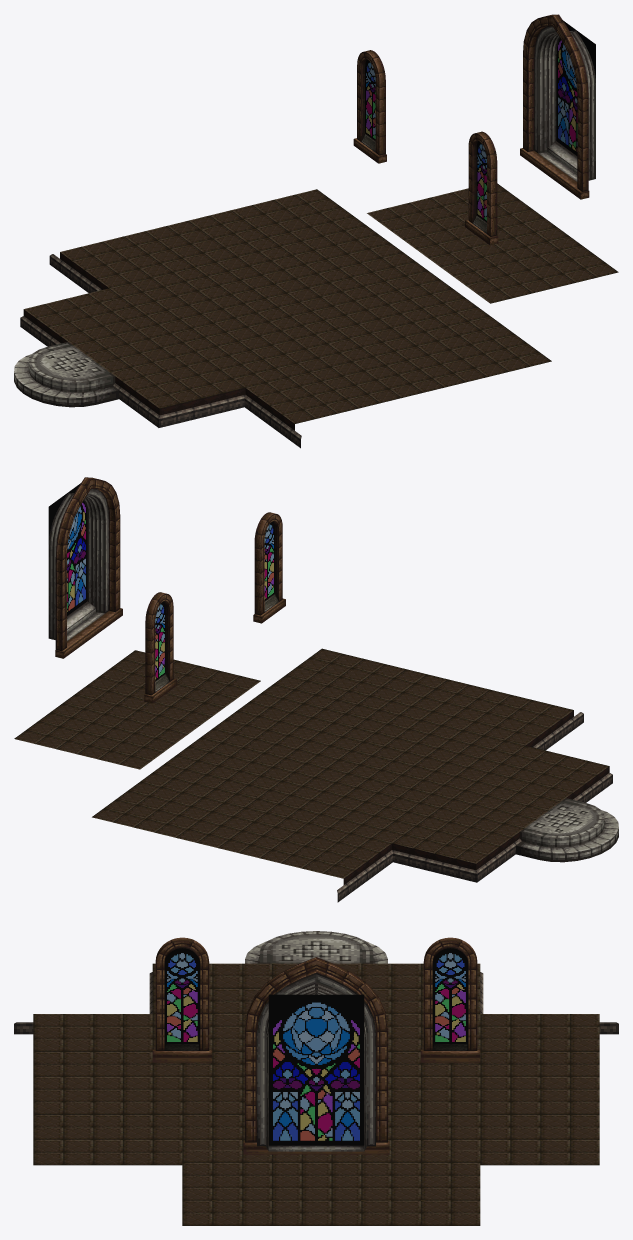
File: EnvBdgMD_Church_Mount_A_Indoor_Floor.FBX
3 views of the same model, one above another, from view 1: azimuth 30°, elevation 25°; view 2: azimuth 150°, elevation 25°; view 3: azimuth 270°, elevation 25° (orthographic). The views are drawn at different scales.
Parts seen in each view (by area): view 1: EnvBdgMD_Church_Mount_A_Indoor_Floor; view 2: EnvBdgMD_Church_Mount_A_Indoor_Floor; view 3: EnvBdgMD_Church_Mount_A_Indoor_Floor.
Part boxes in pixels (left/top/right/bottom): EnvBdgMD_Church_Mount_A_Indoor_Floor: left=14, top=14, right=618, bottom=448; EnvBdgMD_Church_Mount_A_Indoor_Floor: left=14, top=477, right=618, bottom=902; EnvBdgMD_Church_Mount_A_Indoor_Floor: left=14, top=931, right=618, bottom=1225.
Bounding box in the file's own units: 2580 × 1107 × 2030.
